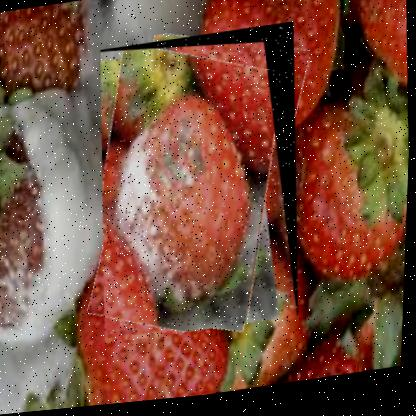strawberry_rotten: (91, 24, 309, 346)
